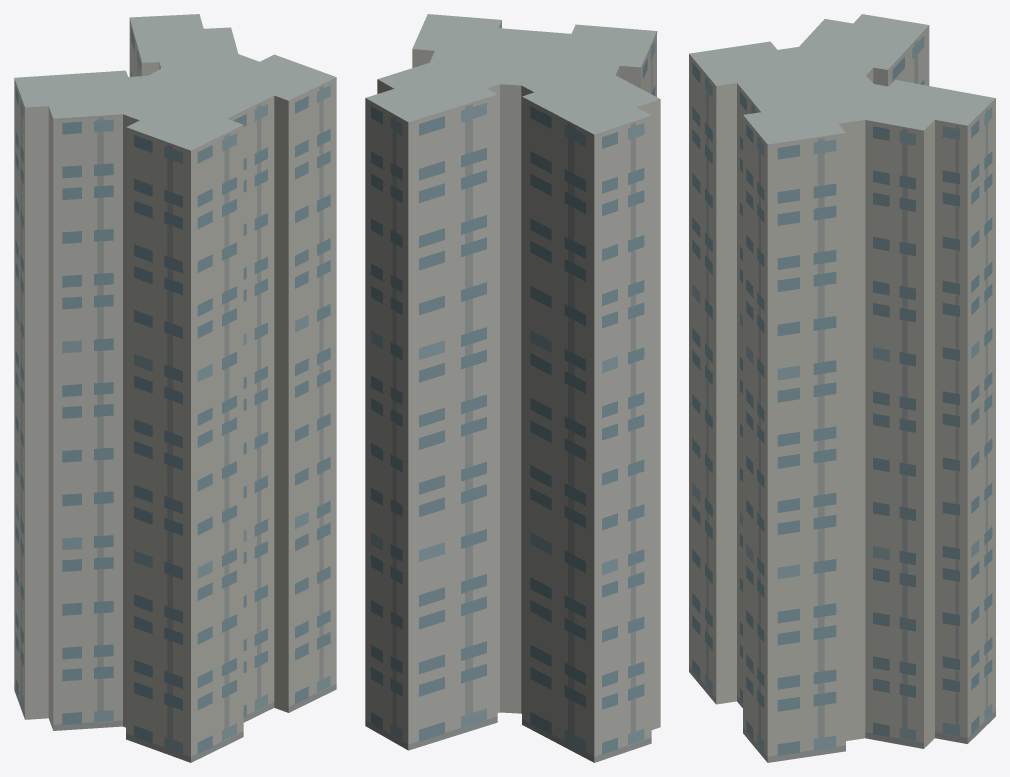
The model's file is residential-de69ecc3-4f3f-4f6c-abac-1084528f1973.glb.
3 renders of one model, left to right at view 1: azimuth 30°, elevation 25°; view 2: azimuth 150°, elevation 25°; view 3: azimuth 270°, elevation 25°, orthographic. The views are drawn at different scales.
Parts seen in each view (by area): view 1: residential-de69ecc3-4f3f-4f6c-abac-1084528f1973.tmp; view 2: residential-de69ecc3-4f3f-4f6c-abac-1084528f1973.tmp; view 3: residential-de69ecc3-4f3f-4f6c-abac-1084528f1973.tmp.
Part boxes in pixels (<box>): residential-de69ecc3-4f3f-4f6c-abac-1084528f1973.tmp: <box>14,14,336,762</box>; residential-de69ecc3-4f3f-4f6c-abac-1084528f1973.tmp: <box>365,14,660,762</box>; residential-de69ecc3-4f3f-4f6c-abac-1084528f1973.tmp: <box>689,14,995,762</box>.
Size of the model in its own units: 35.33 by 78 by 35.08.
